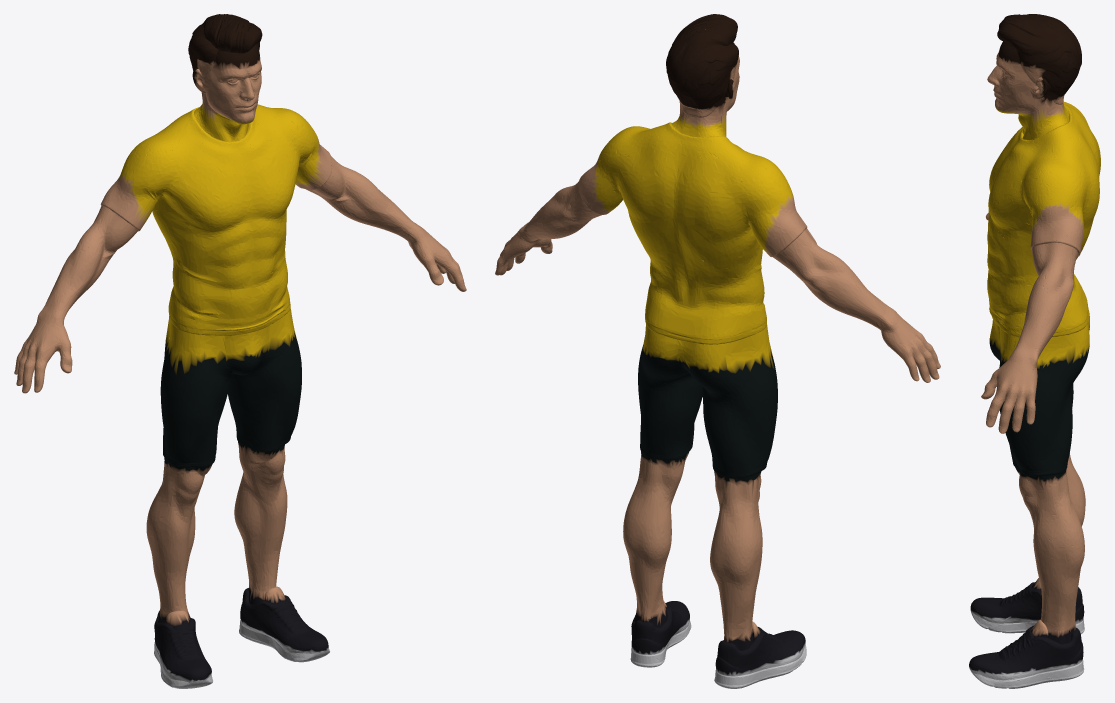
Rendered from coach.glb.
The picture shows the model from 3 angles, left to right: view 1: azimuth 30°, elevation 25°; view 2: azimuth 150°, elevation 25°; view 3: azimuth 270°, elevation 25°; orthographic projection.
Parts seen in each view (by area): view 1: Mesh_0; view 2: Mesh_0; view 3: Mesh_0.
Part boxes in pixels (bbox=[...]): Mesh_0: bbox=[14, 14, 466, 688]; Mesh_0: bbox=[495, 14, 940, 688]; Mesh_0: bbox=[969, 14, 1100, 688].
Size of the model in its own units: 1.43 by 2 by 0.3765.
